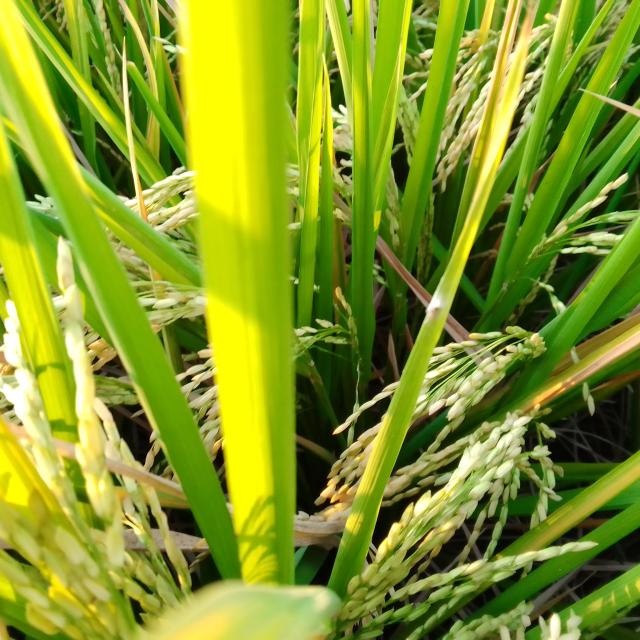Brown spot: (371, 227, 439, 315), (441, 306, 516, 380), (110, 517, 219, 559), (286, 513, 355, 553)
